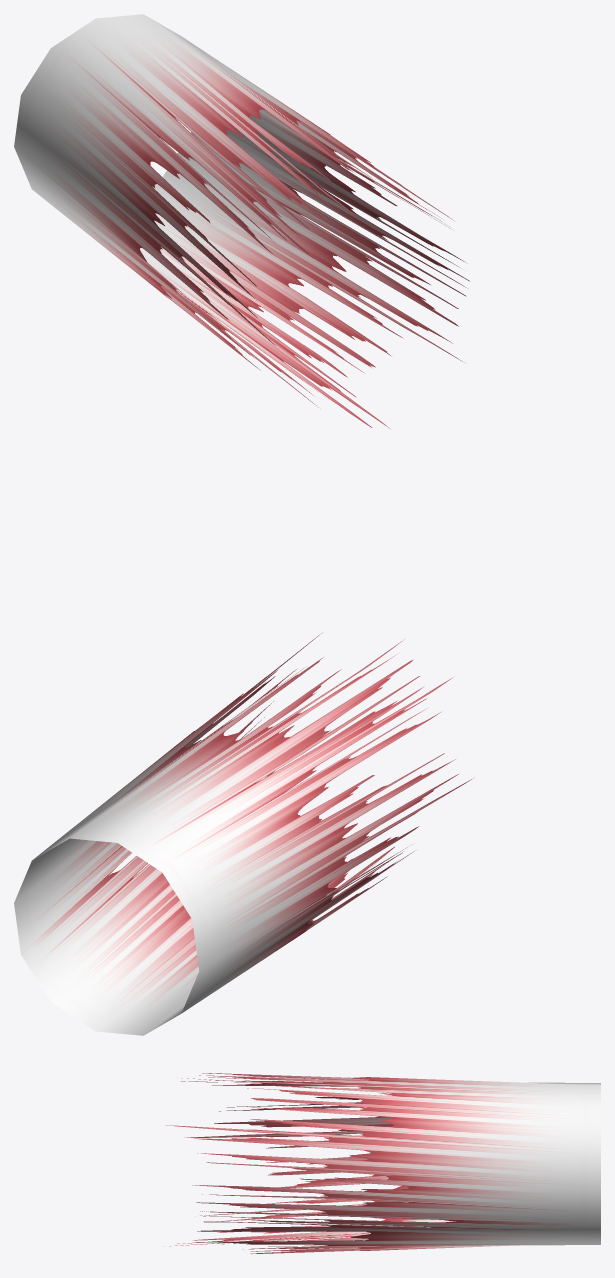
The model's file is Effect0.obj.
3 renders of one model, top to bottom at view 1: azimuth 30°, elevation 25°; view 2: azimuth 150°, elevation 25°; view 3: azimuth 270°, elevation 25°, orthographic. The views are drawn at different scales.
Parts seen in each view (by area): view 1: Cylinder001; view 2: Cylinder001; view 3: Cylinder001.
Part boxes in pixels (box(x1,y1,x2,y2)): Cylinder001: box(14, 14, 469, 428); Cylinder001: box(14, 633, 474, 1035); Cylinder001: box(164, 1073, 600, 1254).
Bounding box in the file's own units: 39.18 × 39.18 × 115.
Materials: 1 (1 with a texture image).
